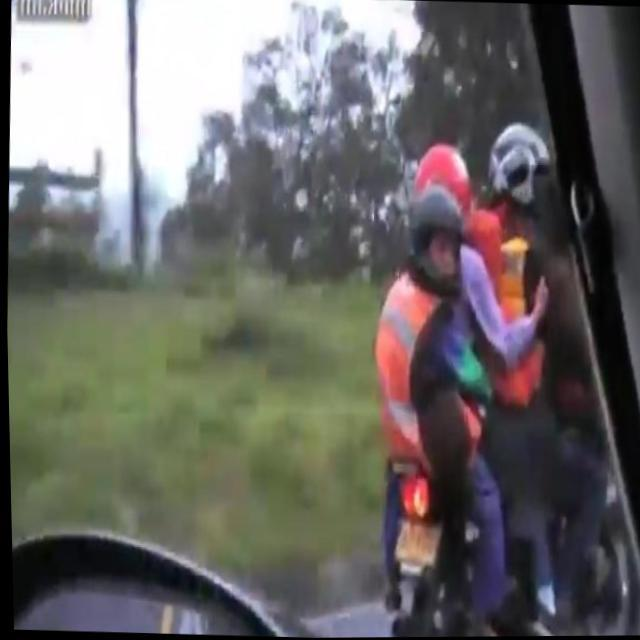pillion: (373, 188, 468, 496), (412, 138, 490, 478)
with_helmet: (400, 188, 468, 298), (413, 141, 475, 224)
